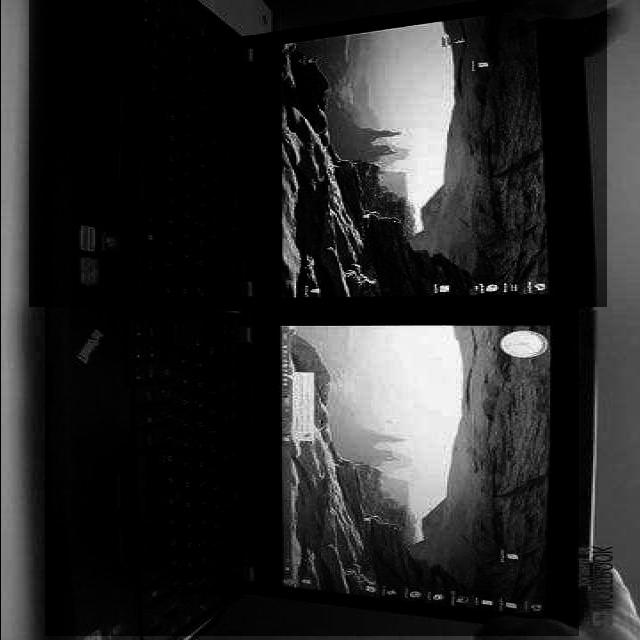-keyboard-: (29, 0, 607, 307), (45, 306, 579, 636)
